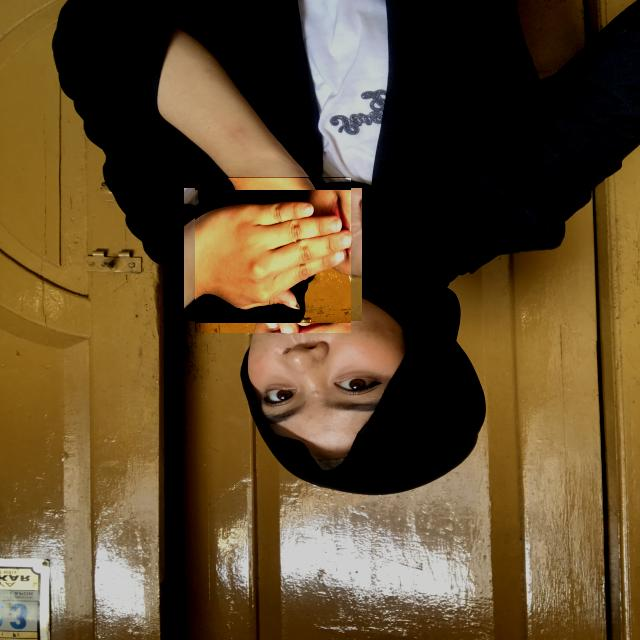ganteng: (195, 176, 351, 332)
